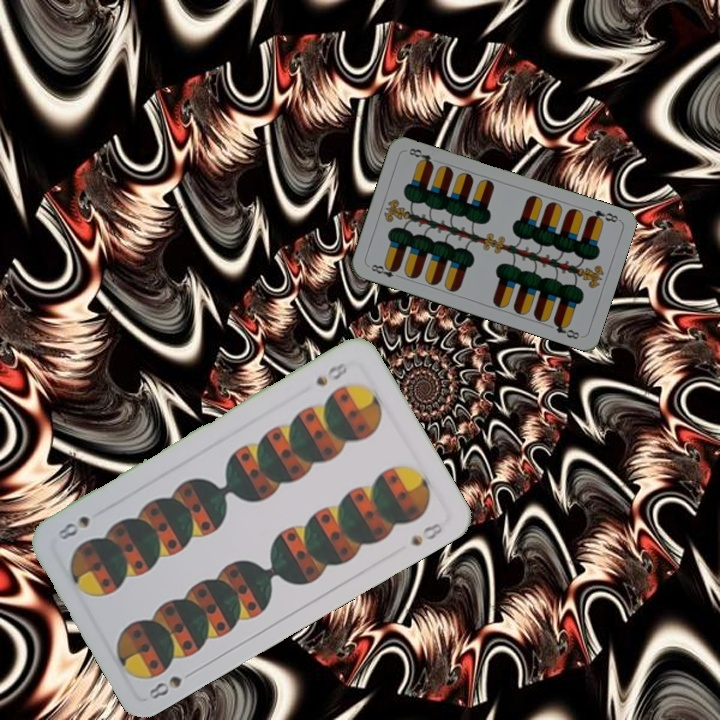E8: (367, 260, 404, 281), (584, 206, 621, 226)
S8: (144, 665, 199, 702), (312, 358, 353, 389)
